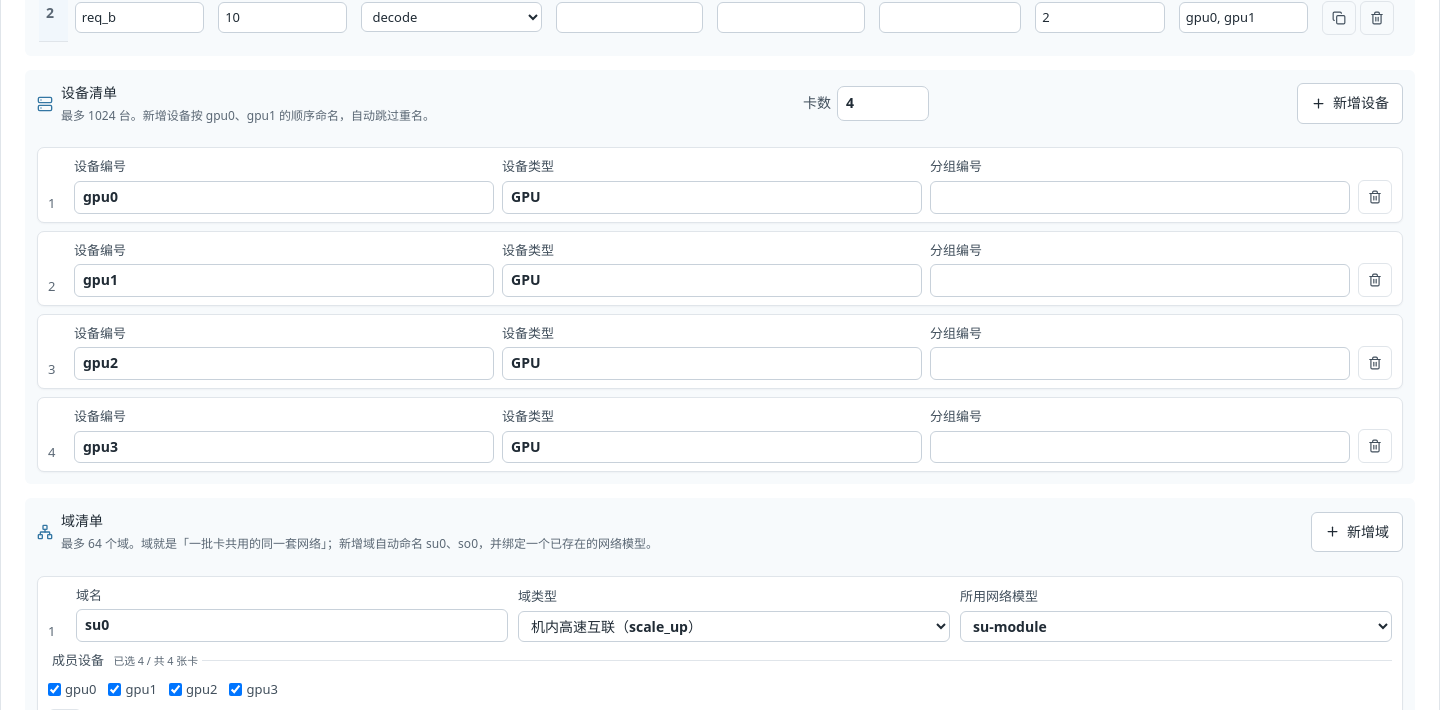
it: structured input panel › warns when a deleted device was still referenced
(page scrolled)
Click the 7th button with class "icon-button" at [1375, 363], box [1358, 346, 1392, 380]
(page scrolled)
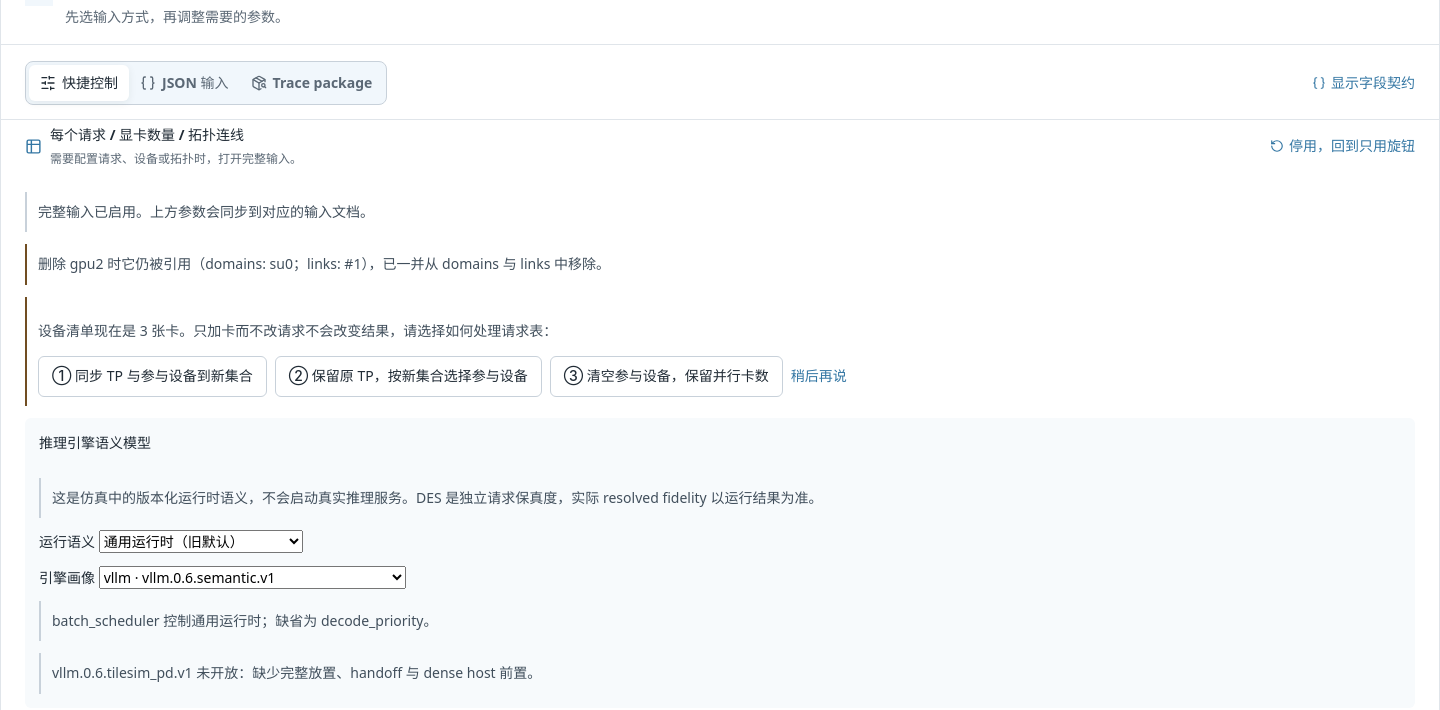
Result: the message with class "structured-note--warning" shows "gpu2" at [38, 254, 610, 273]
Result: the message with class "structured-note--warning" shows "domains: su0" at [38, 254, 610, 273]
